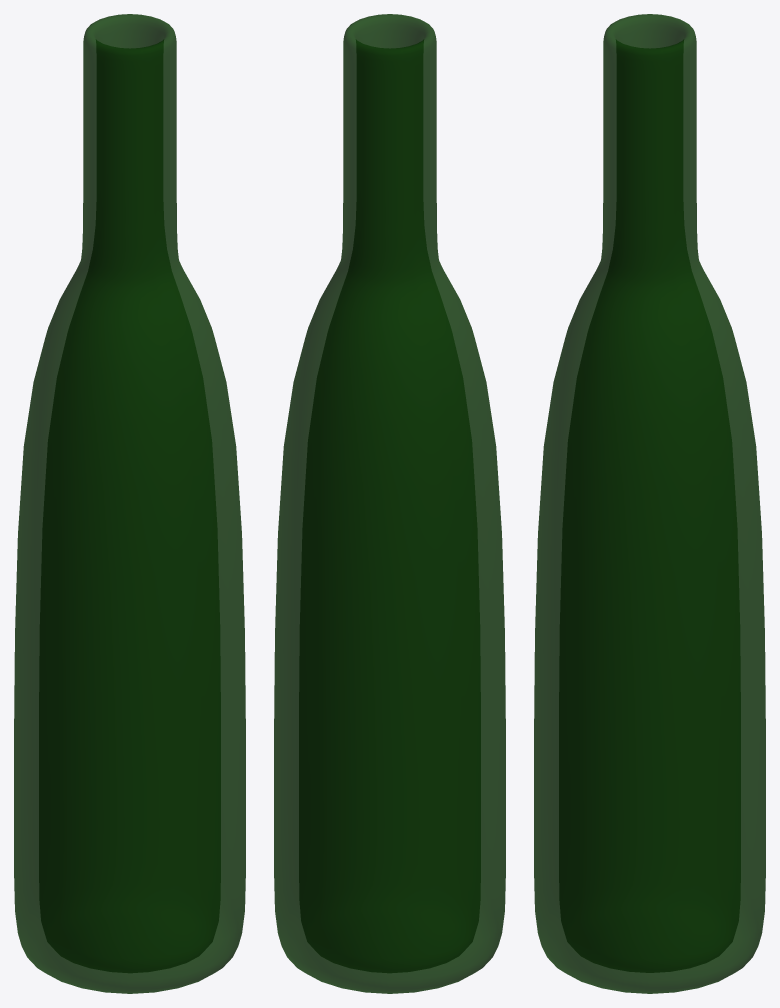
File: Winebottle.fbx
3 views of the same model, side by side, from view 1: azimuth 30°, elevation 25°; view 2: azimuth 150°, elevation 25°; view 3: azimuth 270°, elevation 25° (orthographic).
Visible parts, largest first — view 1: winebottle; view 2: winebottle; view 3: winebottle.
Part boxes in pixels (x1,y1,x2,y2): winebottle: [14, 14, 245, 993]; winebottle: [274, 14, 505, 993]; winebottle: [534, 14, 765, 993].
Bounding box in the file's own units: 1.69 × 7.39 × 1.68.
